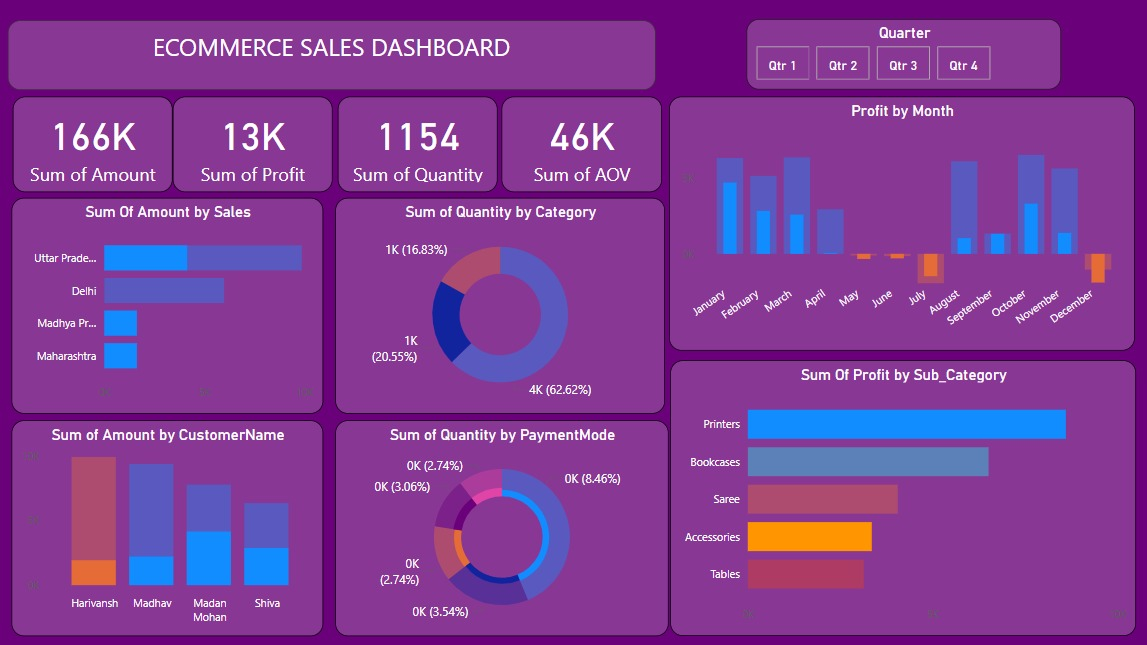

What the dashboard file says about the page in this screenshot:
{"tool":"powerbi","page":{"name":"Page 1","canvas":[1280,720],"ordinal":0},"visuals":[{"type":"textbox","box":[10,23.8,720,77.5],"z":0},{"type":"columnChart","title":"Profit by Month","fields":{"Category":["Orders.Order Date.Variation.Date Hierarchy.Month"],"Y":["Details.Profit"]},"box":[743.8,108.8,517.5,282.5],"z":1000},{"type":"barChart","title":"Sum Of Profit by Sub_Category","fields":{"Y":["Details.Profit"],"Category":["Details.Sub-Category"]},"box":[746.2,401.2,517.5,306.2],"z":2000},{"type":"donutChart","fields":{"Y":["Details.Quantity"],"Category":["Details.Category"]},"box":[373.8,221.2,366.2,240],"z":3000},{"type":"donutChart","fields":{"Y":["Details.Quantity"],"Category":["Details.PaymentMode"]},"box":[373.8,467.5,370,240],"z":4000},{"type":"card","fields":{"Values":["Details.Amount"]},"box":[15,108.8,177.5,106.2],"z":5000},{"type":"card","fields":{"Values":["Details.Profit"]},"box":[192.9,108.5,177.5,106.2],"z":6000},{"type":"card","fields":{"Values":["Details.Quantity"]},"box":[375.8,108.5,177.5,106.2],"z":7000},{"type":"card","fields":{"Values":["Details.AOV"]},"box":[558.8,108.5,178.8,106.2],"z":8000},{"type":"barChart","title":"Sum Of Amount by Sales","fields":{"Category":["Orders.State"],"Y":["Details.Amount"]},"box":[13.8,221.2,346.2,240],"z":9000},{"type":"columnChart","fields":{"Category":["Orders.CustomerName"],"Y":["Details.Amount"]},"box":[13.8,467.5,346.2,240],"z":10000},{"type":"advancedSlicerVisual","fields":{"Values":["Orders.Order Date.Variation.Date Hierarchy.Quarter"]},"box":[830.3,22,349.7,78.3],"z":11000}]}

Visuals, with their boxes in screenshot pixels (x1, y1, x2, y2), scaled from the page's 1280x720 canvas onto the 1147x645 screenshot:
textbox: rect(9, 21, 654, 91)
"Profit by Month" columnChart: rect(667, 97, 1130, 351)
"Sum Of Profit by Sub_Category" barChart: rect(669, 359, 1132, 634)
donutChart - Details.Quantity x Details.Category: rect(335, 198, 663, 413)
donutChart - Details.Quantity x Details.PaymentMode: rect(335, 419, 667, 634)
card - Details.Amount: rect(13, 97, 172, 193)
card - Details.Profit: rect(173, 97, 332, 192)
card - Details.Quantity: rect(337, 97, 496, 192)
card - Details.AOV: rect(501, 97, 661, 192)
"Sum Of Amount by Sales" barChart: rect(12, 198, 323, 413)
columnChart - Orders.CustomerName x Details.Amount: rect(12, 419, 323, 634)
advancedSlicerVisual - Orders.Order Date.Variation.Date Hierarchy.Quarter: rect(744, 20, 1057, 90)
